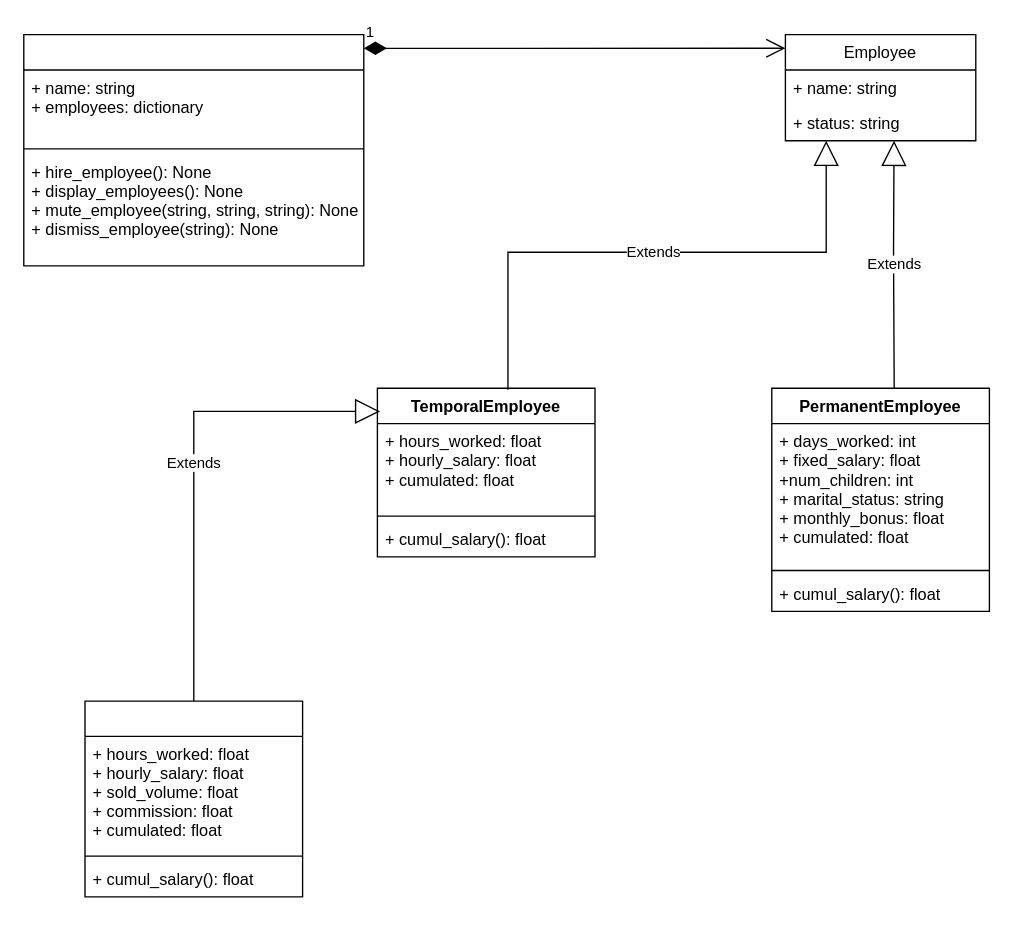
Some shapes in this 1013 by 925 pixel diagram are drawn without their labels. The shapes that lost their labels are listed below. From the top down, each one's box as (x1, y1, x2, y2) in pixels, then its label:
(22, 33, 364, 266): Enterprise
(84, 700, 303, 897): Seller
